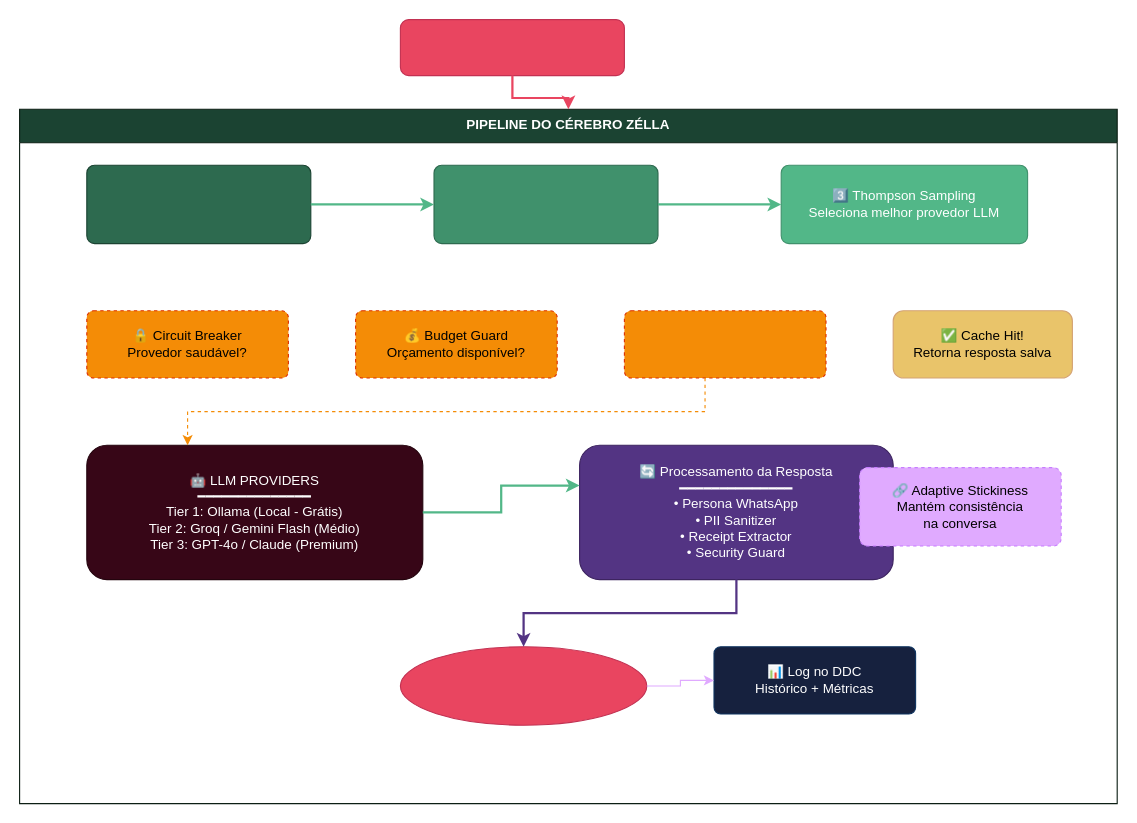
The diagram is 1137 pixels wide and 823 high, and some of its shapes have lost their labels. The shapes that lost their labels are listed below. From the top down, each one's centre as x and y in pixels, then its label:
At (x=511, y=47): "📨 Mensagem do Hóspede".
At (x=198, y=204): "1️⃣ Intent Classifier Classifica intenção do hóspede".
At (x=545, y=204): "2️⃣ Context Discretizer Categoriza em buckets de contexto".
At (x=724, y=344): "⚡ Semantic Cache Já respondida antes?".
At (x=523, y=685): "📤 Resposta para o Hóspede via WhatsApp / DDC".
